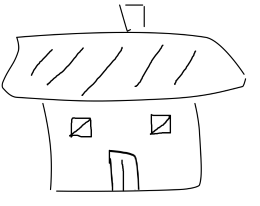big_house: (1, 0, 260, 206)
chimney: (114, 0, 147, 39)
closed_window: (66, 112, 98, 142), (146, 111, 174, 141)
door: (103, 143, 146, 197)
roof: (0, 29, 247, 109)
wall: (37, 93, 206, 198)
